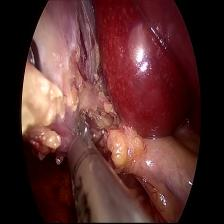Clipper: (62, 110, 97, 178)
